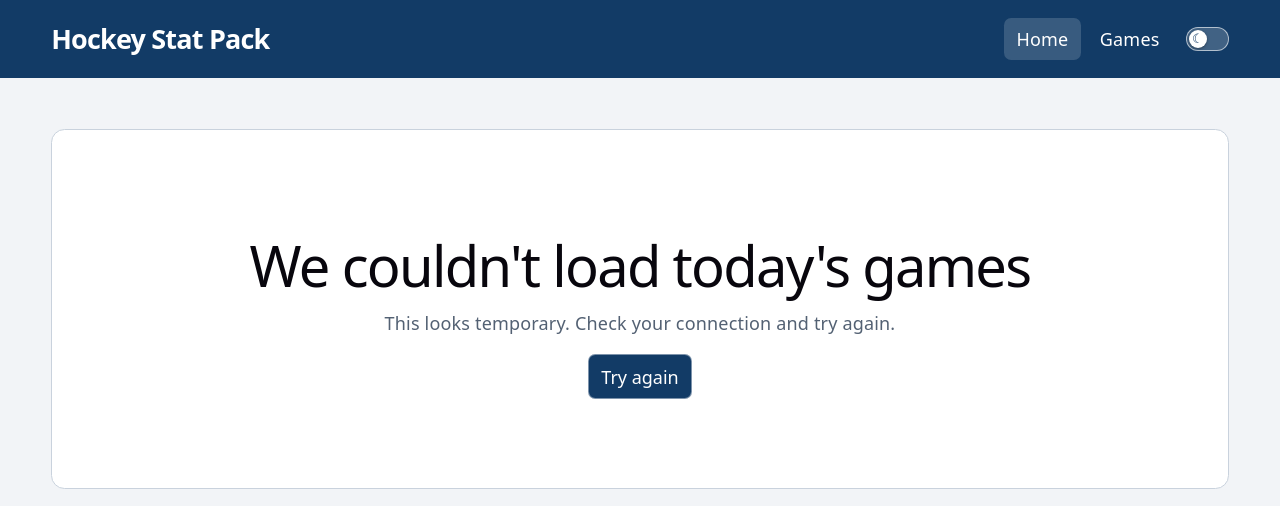
Scenario: lets a visitor retry a recoverable games error
Expected: the message shows "We couldn't load today's games", [250,227,1030,303]
Step 1. Click the button "Try again" → coordinates (640, 377), box [588,354,692,399]
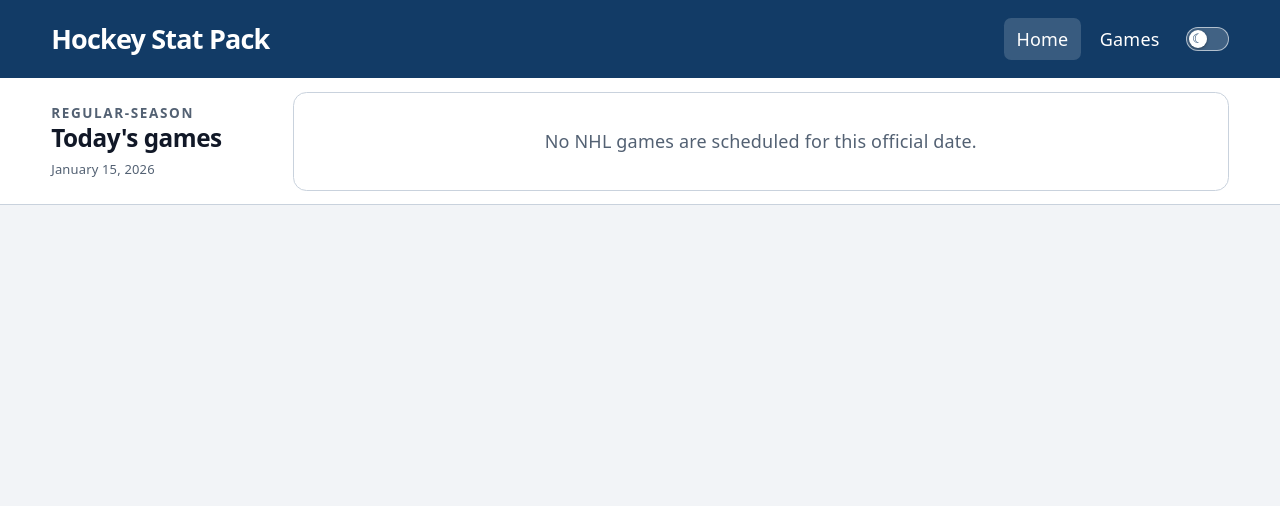
Result: the text "No NHL games are scheduled for this official date." is shown at [545,128,977,154]
